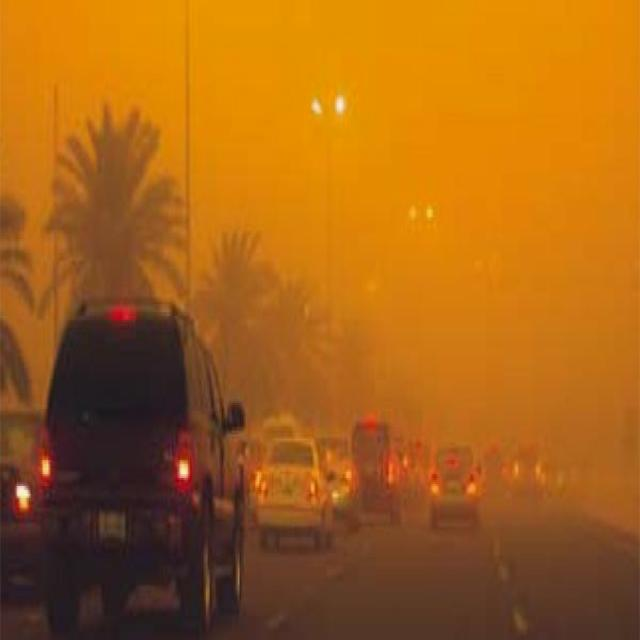Car: (37, 286, 249, 635), (0, 396, 46, 577), (258, 422, 320, 536), (354, 406, 407, 514), (430, 439, 490, 531), (312, 417, 368, 513), (389, 422, 424, 508), (510, 431, 544, 501)
